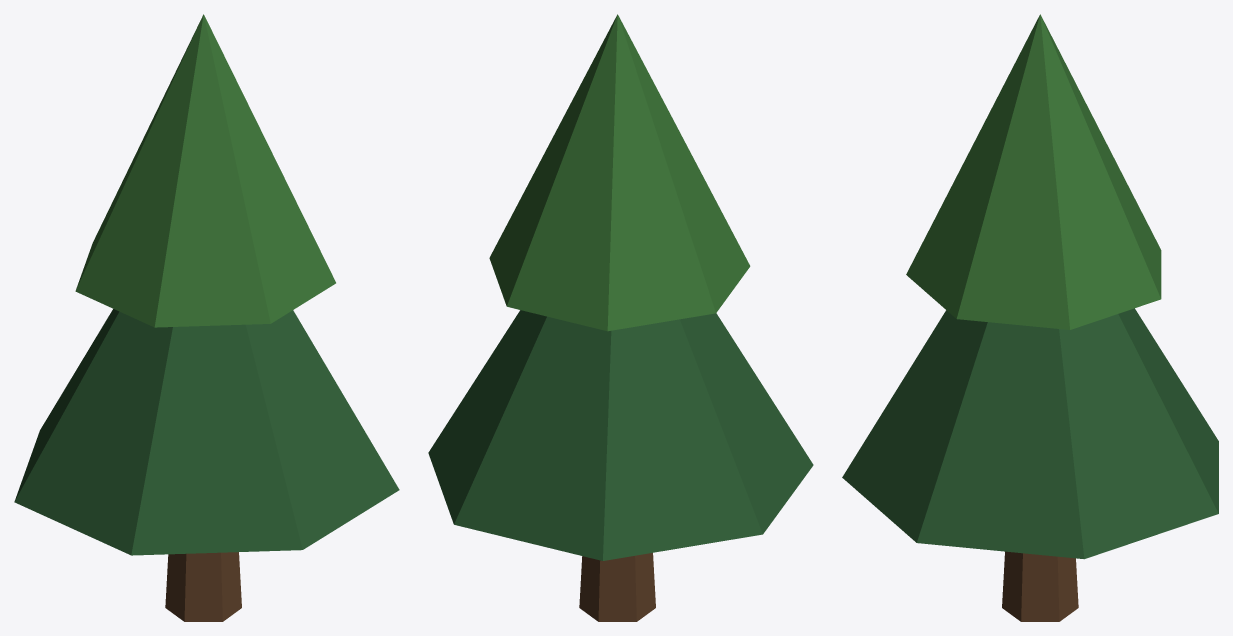
File: pine.glb
3 views of the same model, side by side, from view 1: azimuth 30°, elevation 25°; view 2: azimuth 150°, elevation 25°; view 3: azimuth 270°, elevation 25° (orthographic).
Visible parts, largest first — view 1: Pine; view 2: Pine; view 3: Pine.
Boxes of the visible parts, left/top/right/bottom form: Pine: left=14, top=14, right=399, bottom=621; Pine: left=428, top=14, right=813, bottom=621; Pine: left=842, top=14, right=1218, bottom=621.
Size of the model in its own units: 1.21 by 2.05 by 1.18.
